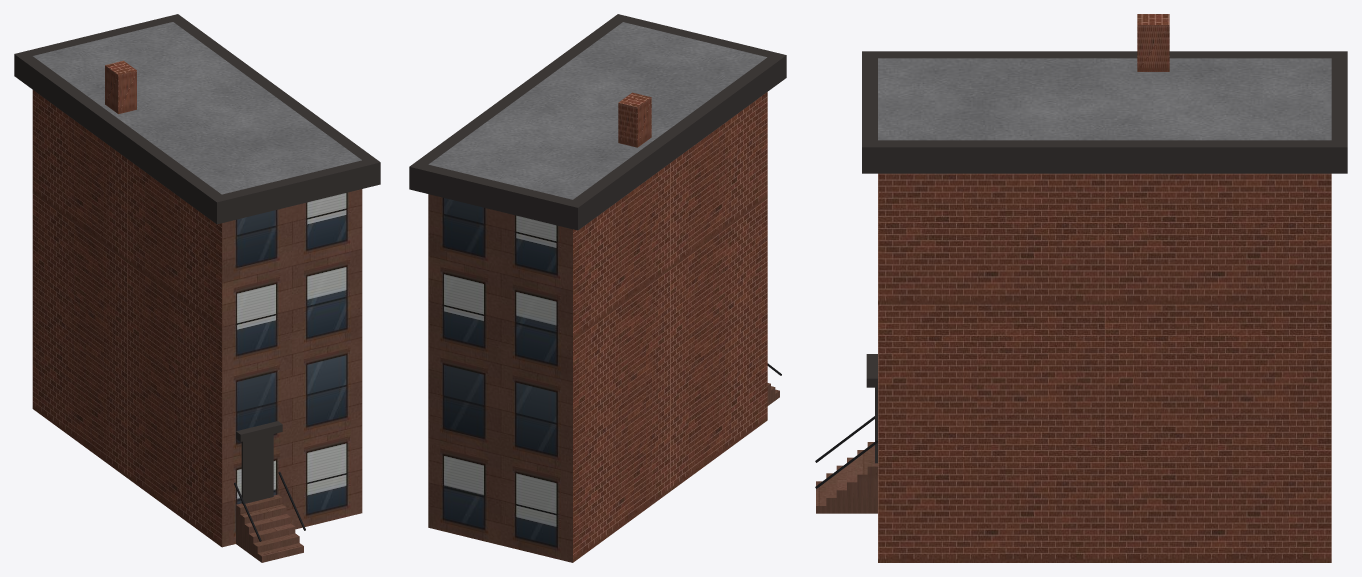
File: 001_brownstone_classic.glb
3 views of the same model, side by side, from view 1: azimuth 30°, elevation 25°; view 2: azimuth 150°, elevation 25°; view 3: azimuth 270°, elevation 25° (orthographic). The views are drawn at different scales.
Parts seen in each view (by area): view 1: 001_brownstone_classic; view 2: 001_brownstone_classic; view 3: 001_brownstone_classic.
Part boxes in pixels (x1,y1,x2,y2): 001_brownstone_classic: [14, 14, 380, 562]; 001_brownstone_classic: [409, 14, 786, 562]; 001_brownstone_classic: [815, 14, 1347, 562].
Bounding box in the file's own units: 7 × 16 × 16.44.
6 materials, 4 textured.
